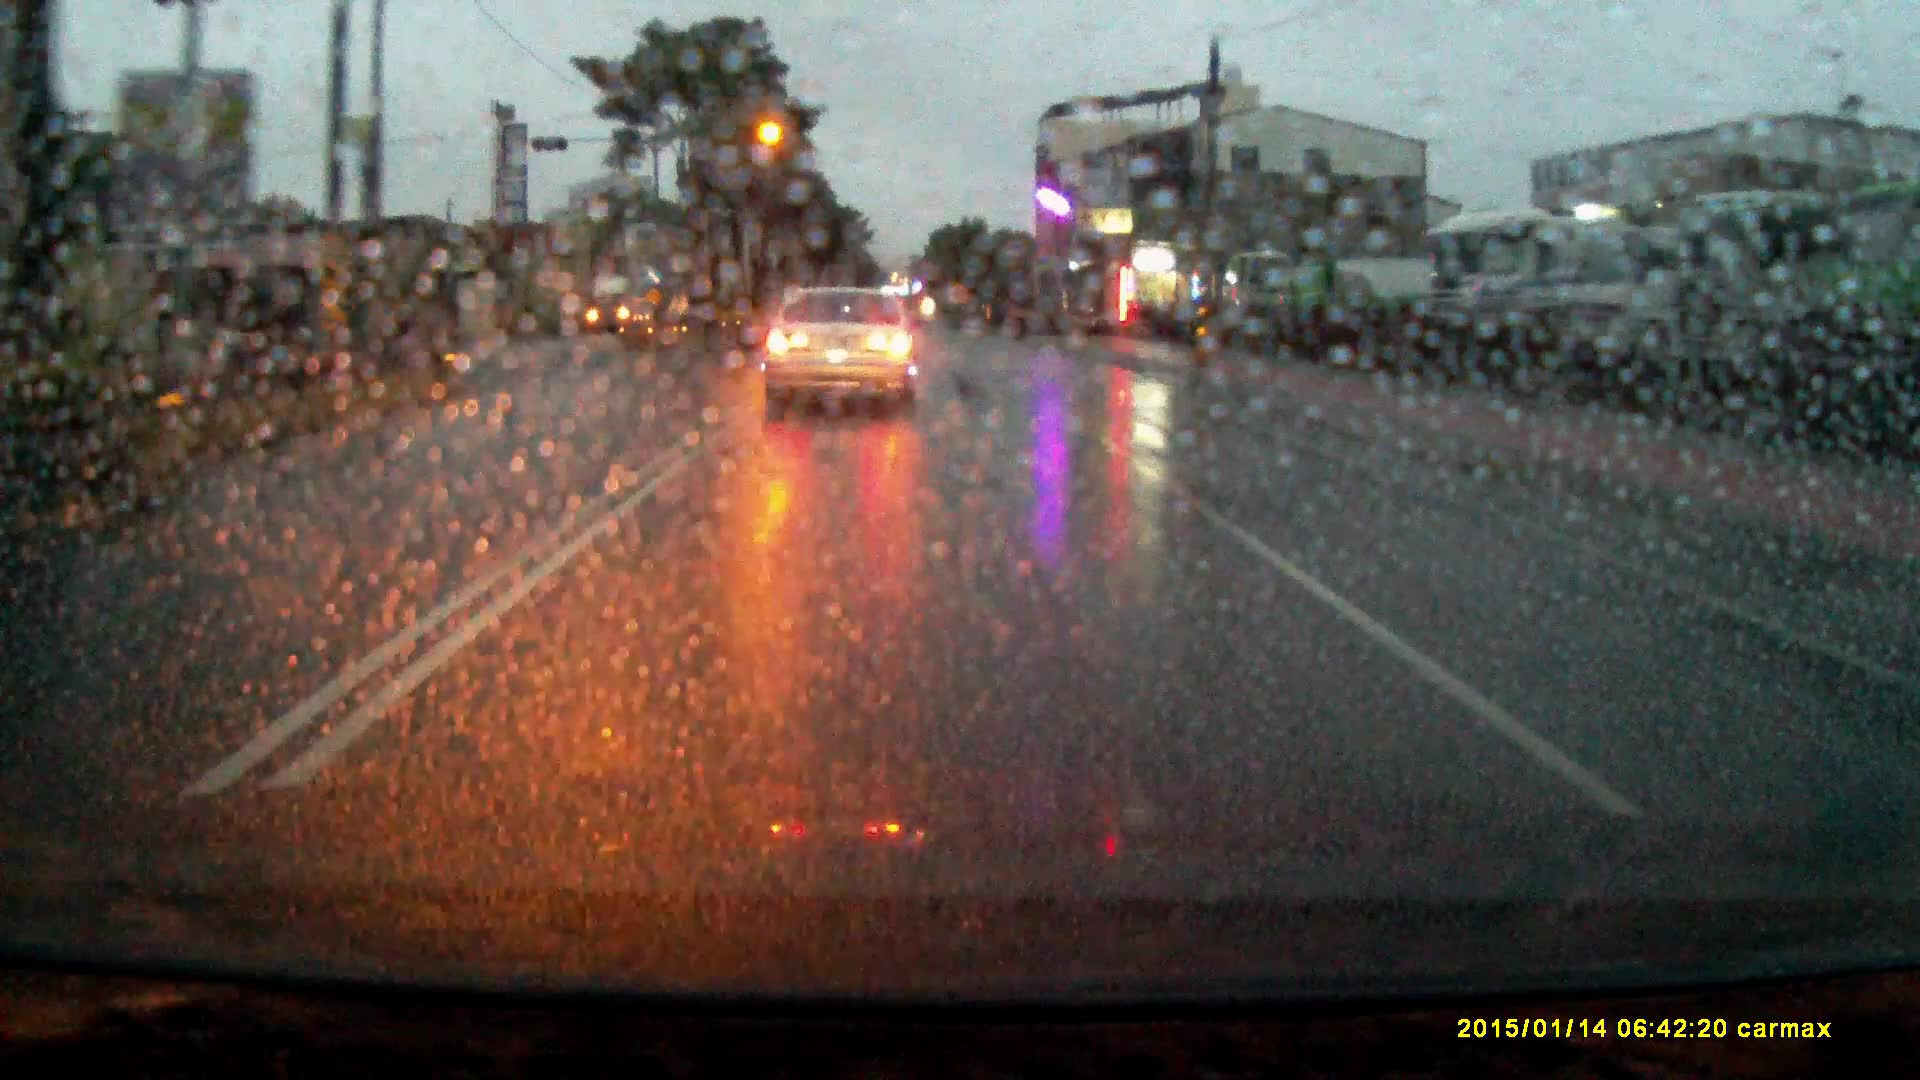vehicle: (1683, 186, 1838, 411), (1527, 222, 1691, 393), (761, 286, 922, 418), (1427, 211, 1538, 360), (1269, 256, 1437, 335), (1222, 247, 1295, 327), (588, 277, 649, 334)
